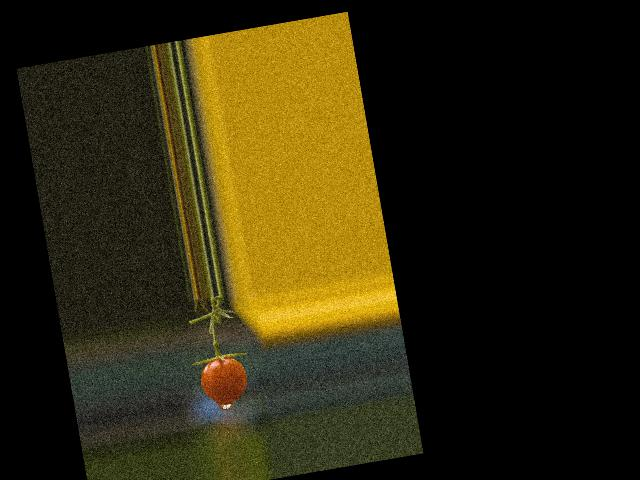tomato: (196, 354, 249, 406)
